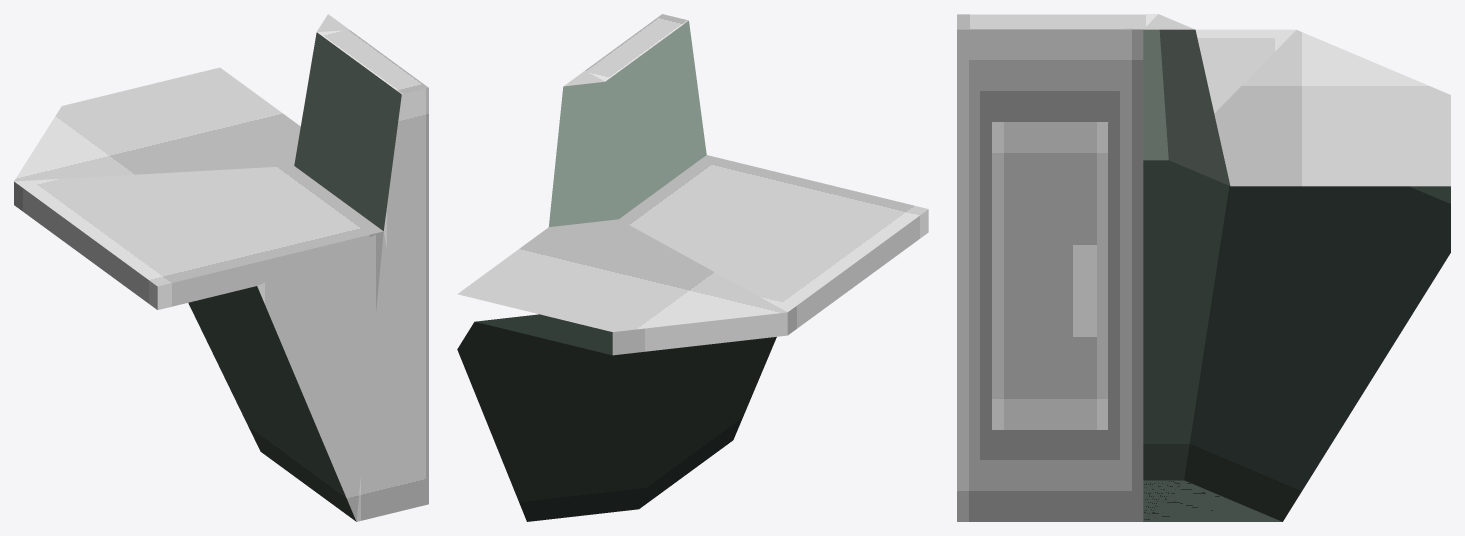
File: run_desk_outside_bend_b_0_m.obj
3 renders of one model, left to right at view 1: azimuth 30°, elevation 25°; view 2: azimuth 150°, elevation 25°; view 3: azimuth 270°, elevation 25°, orthographic. The views are drawn at different scales.
Size of the model in its own units: 0.75 by 1.1 by 1.
